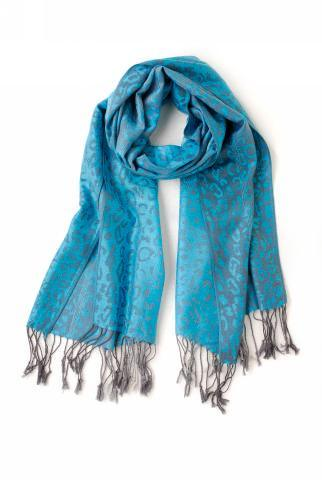flexible: (27, 52, 301, 408)
